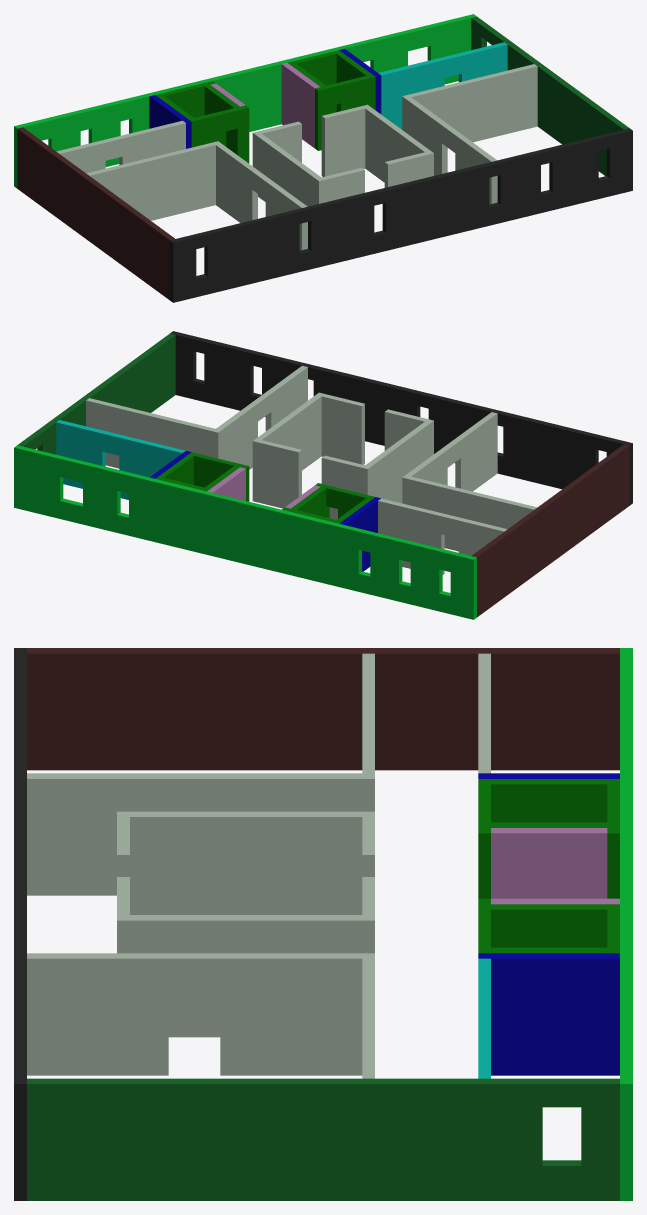
File: convitto_secondopiano.gltf
3 renders of one model, top to bottom at view 1: azimuth 30°, elevation 25°; view 2: azimuth 150°, elevation 25°; view 3: azimuth 270°, elevation 25°, orthographic. The views are drawn at different scales.
Visible parts, largest first — view 1: Layer.1, Layer.16, Layer.2, Layer.15, Layer.9, Layer.6, Layer.12, Layer.3, Layer.10, Layer.11, Layer.4, Layer.5 (+11 smaller); view 2: Layer.16, Layer.1, Layer.2, Layer.6, Layer.10, Layer.15, Layer.12, Layer.11, Layer.5, Layer.9, Layer.3, Layer.4 (+8 smaller); view 3: Layer.6, Layer.2, Layer.4, Layer.7, Layer.3, Layer.14, Layer.8, Layer.21, Layer.1, Layer.16, Layer.25, Layer.18 (+11 smaller).
Boxes of the visible parts, x1,y1,x2,y2 form: Layer.1: [170, 128, 632, 302]; Layer.16: [14, 14, 476, 188]; Layer.2: [17, 127, 174, 300]; Layer.15: [402, 64, 537, 148]; Layer.9: [86, 141, 220, 220]; Layer.6: [471, 16, 629, 175]; Layer.12: [378, 42, 507, 129]; Layer.3: [216, 143, 307, 250]; Layer.10: [252, 104, 370, 176]; Layer.11: [56, 120, 185, 173]; Layer.4: [405, 97, 497, 204]; Layer.5: [315, 151, 433, 204]; Layer.16: [14, 445, 476, 619]; Layer.1: [170, 331, 632, 505]; Layer.2: [472, 444, 629, 617]; Layer.6: [17, 333, 175, 454]; Layer.10: [252, 438, 370, 519]; Layer.15: [86, 398, 221, 468]; Layer.12: [56, 420, 185, 499]; Layer.11: [378, 498, 507, 574]; Layer.5: [316, 392, 433, 464]; Layer.9: [402, 475, 537, 551]; Layer.3: [406, 412, 497, 491]; Layer.4: [216, 365, 307, 469]; Layer.6: [27, 1078, 619, 1200]; Layer.2: [27, 648, 619, 770]; Layer.4: [27, 953, 362, 1075]; Layer.7: [130, 811, 362, 914]; Layer.3: [27, 773, 362, 895]; Layer.14: [478, 953, 619, 1075]; Layer.8: [130, 915, 362, 1037]; Layer.21: [491, 828, 607, 898]; Layer.1: [14, 648, 26, 1200]; Layer.16: [620, 648, 632, 1200]; Layer.25: [491, 904, 607, 947]; Layer.18: [491, 779, 607, 822].
Bounding box in the file's own units: 80 × 10 × 48.
Materials: 1 (1 with a texture image).
